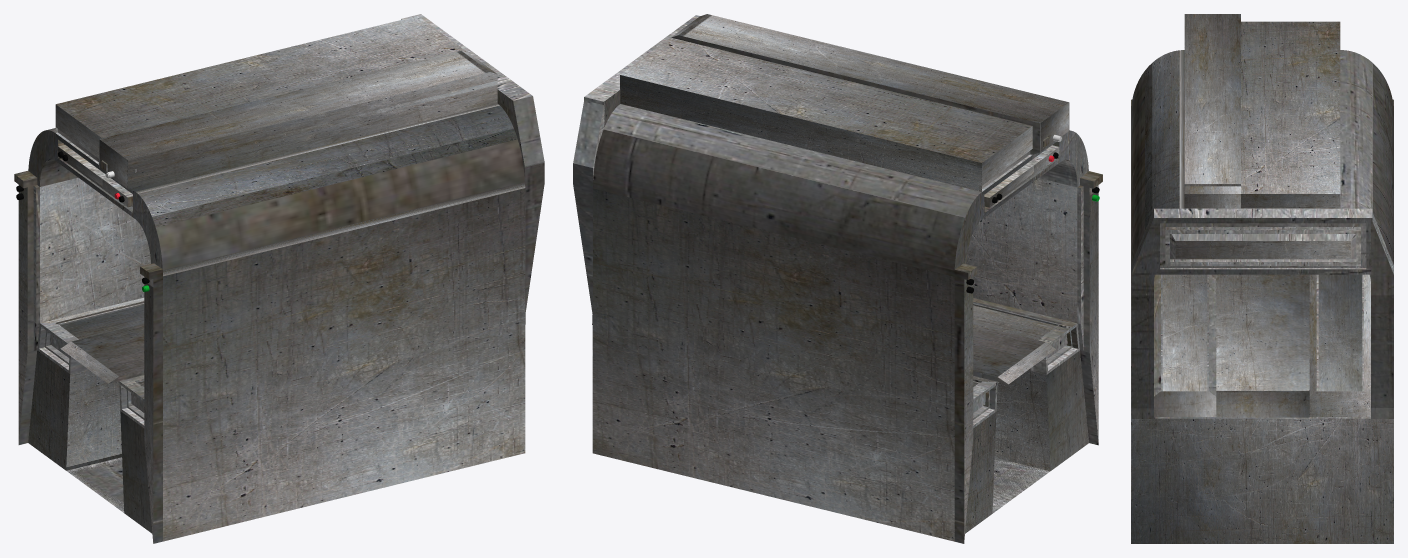
File: mesin_5m.fbx
3 renders of one model, left to right at view 1: azimuth 30°, elevation 25°; view 2: azimuth 150°, elevation 25°; view 3: azimuth 270°, elevation 25°, orthographic. The views are drawn at different scales.
Visible parts, largest first — view 1: Plane.003; view 2: Plane.003; view 3: Plane.003.
Part boxes in pixels (box(x1,y1,x2,y2)): Plane.003: box(14, 14, 544, 543); Plane.003: box(573, 14, 1102, 543); Plane.003: box(1131, 14, 1393, 543).
Size of the model in its own units: 1649 by 1419 by 955.
Materials: 5 (2 with a texture image).
